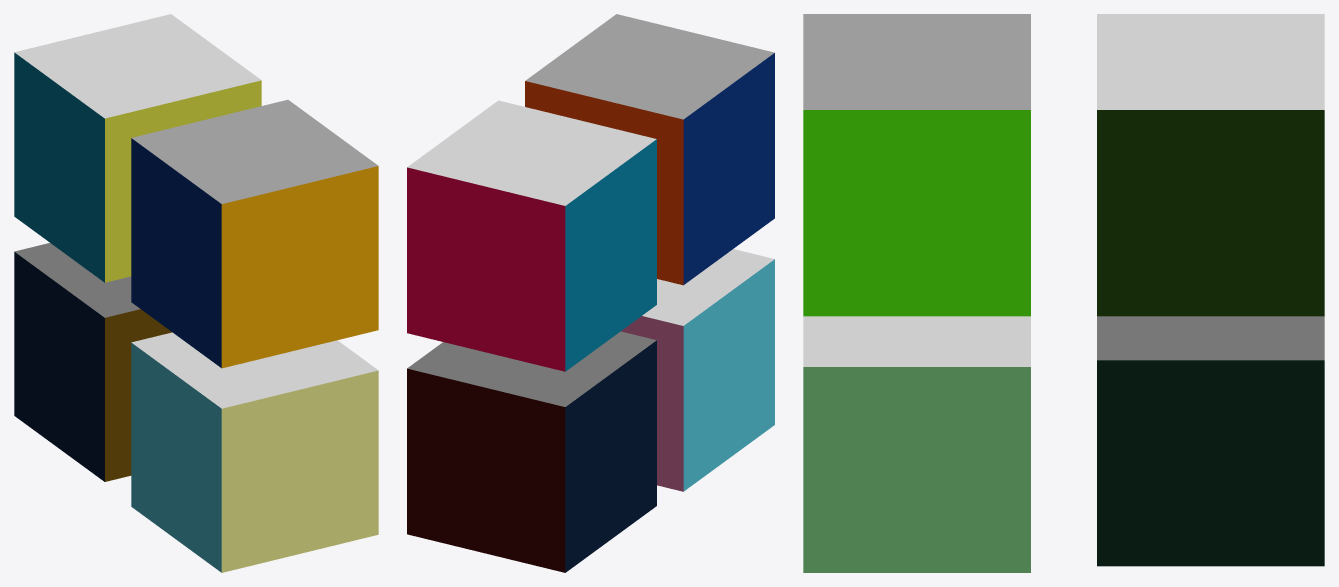
The picture shows the model from 3 angles, left to right: view 1: azimuth 30°, elevation 25°; view 2: azimuth 150°, elevation 25°; view 3: azimuth 270°, elevation 25°; orthographic projection. The views are drawn at different scales.
Parts seen in each view (by area): view 1: pCube2, pCube4, pCube1, pCube3; view 2: pCube1, pCube3, pCube2, pCube4; view 3: pCube1, pCube2, pCube4, pCube3.
Part boxes in pixels (<box>): pCube2: <box>131,99,378,368</box>; pCube4: <box>131,332,378,572</box>; pCube1: <box>14,14,261,282</box>; pCube3: <box>14,243,171,481</box>; pCube1: <box>407,100,656,371</box>; pCube3: <box>407,331,656,572</box>; pCube2: <box>525,14,774,285</box>; pCube4: <box>621,249,774,491</box>; pCube1: <box>1097,14,1324,316</box>; pCube2: <box>803,14,1030,316</box>; pCube4: <box>803,316,1030,572</box>; pCube3: <box>1097,316,1324,566</box>.
Bounding box in the file's own units: 0.1 × 0.2245 × 0.2291.
